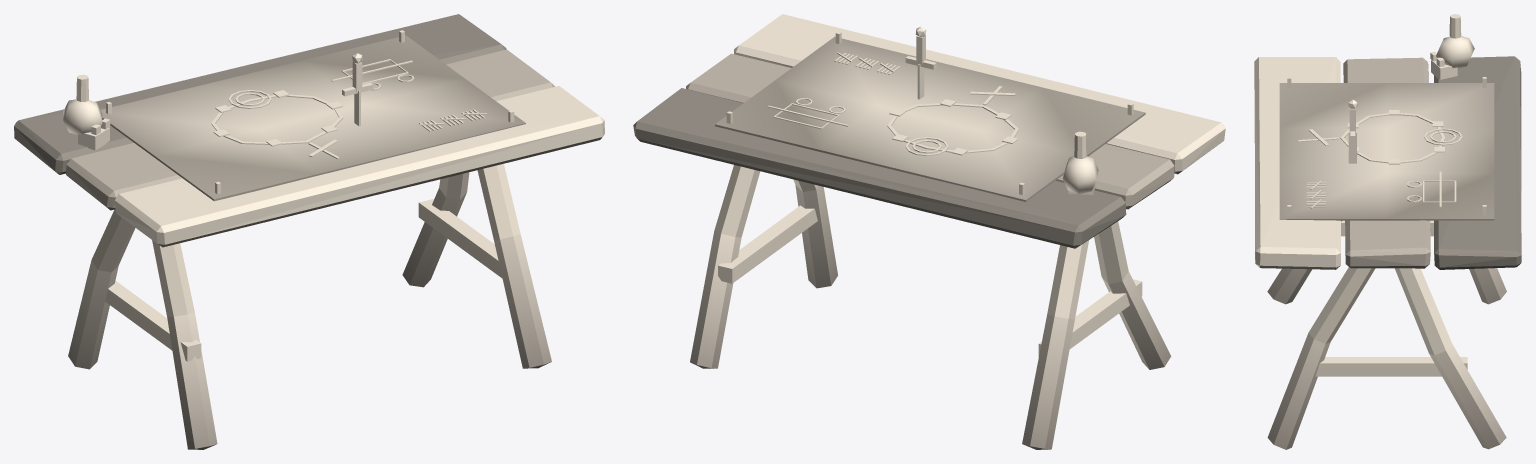
Rendered from SM_VKI_Prop_Orc_WarTable.fbx.
The picture shows the model from 3 angles, left to right: view 1: azimuth 30°, elevation 25°; view 2: azimuth 150°, elevation 25°; view 3: azimuth 270°, elevation 25°; orthographic projection. The views are drawn at different scales.
Parts seen in each view (by area): view 1: SM_VKI_Prop_Orc_WarTable.001; view 2: SM_VKI_Prop_Orc_WarTable.001; view 3: SM_VKI_Prop_Orc_WarTable.001.
Boxes of the visible parts, x1=… form: SM_VKI_Prop_Orc_WarTable.001: x1=14, y1=14, x2=604, y2=449; SM_VKI_Prop_Orc_WarTable.001: x1=633, y1=14, x2=1225, y2=449; SM_VKI_Prop_Orc_WarTable.001: x1=1254, y1=14, x2=1521, y2=449.
Bounding box in the file's own units: 1.91 × 1.3 × 1.1.
